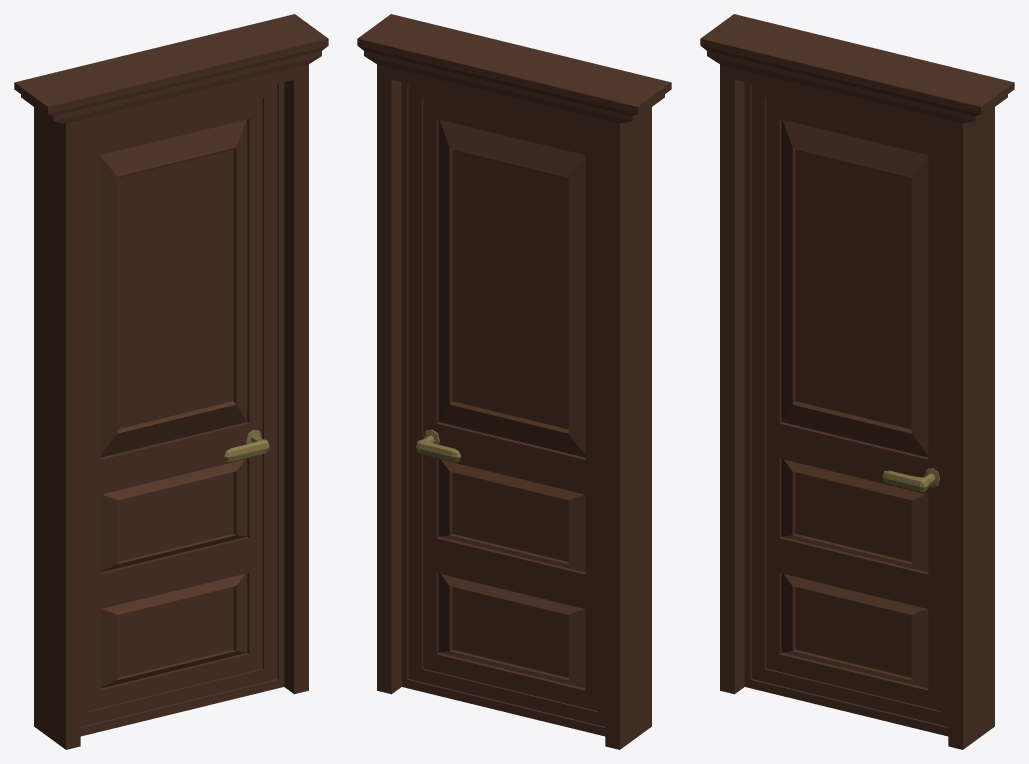
The model's file is door-oak.glb.
The picture shows the model from 3 angles, left to right: view 1: azimuth 30°, elevation 25°; view 2: azimuth 150°, elevation 25°; view 3: azimuth 330°, elevation 25°; orthographic projection.
Parts seen in each view (by area): view 1: leaf, frame; view 2: leaf, frame; view 3: leaf, frame.
Part boxes in pixels (left/top/right/bottom): leaf: left=80, top=82, right=284, bottom=736; frame: left=14, top=14, right=328, bottom=749; leaf: left=401, top=82, right=605, bottom=736; frame: left=357, top=14, right=671, bottom=749; leaf: left=744, top=82, right=948, bottom=736; frame: left=700, top=14, right=1014, bottom=749.
Size of the model in its own units: 0.9599 by 2.12 by 0.1993.
